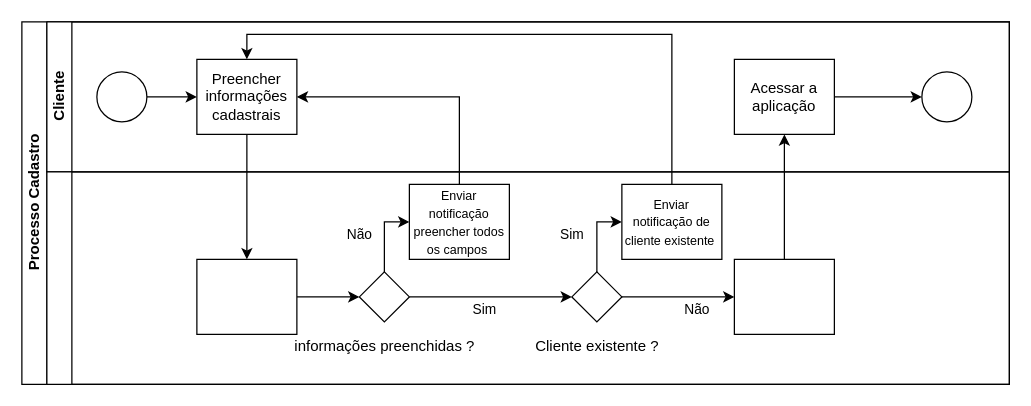
The diagram is 1031 pixels wide and 406 high, and some of its shapes have lost their labels. Here are the shapes that lost their labels. From the top down, the box of each, then its label:
(196, 258, 297, 334): Verificar informações
(46, 171, 1009, 384): Sistema
(733, 258, 834, 334): guardar informações no banco de dados
